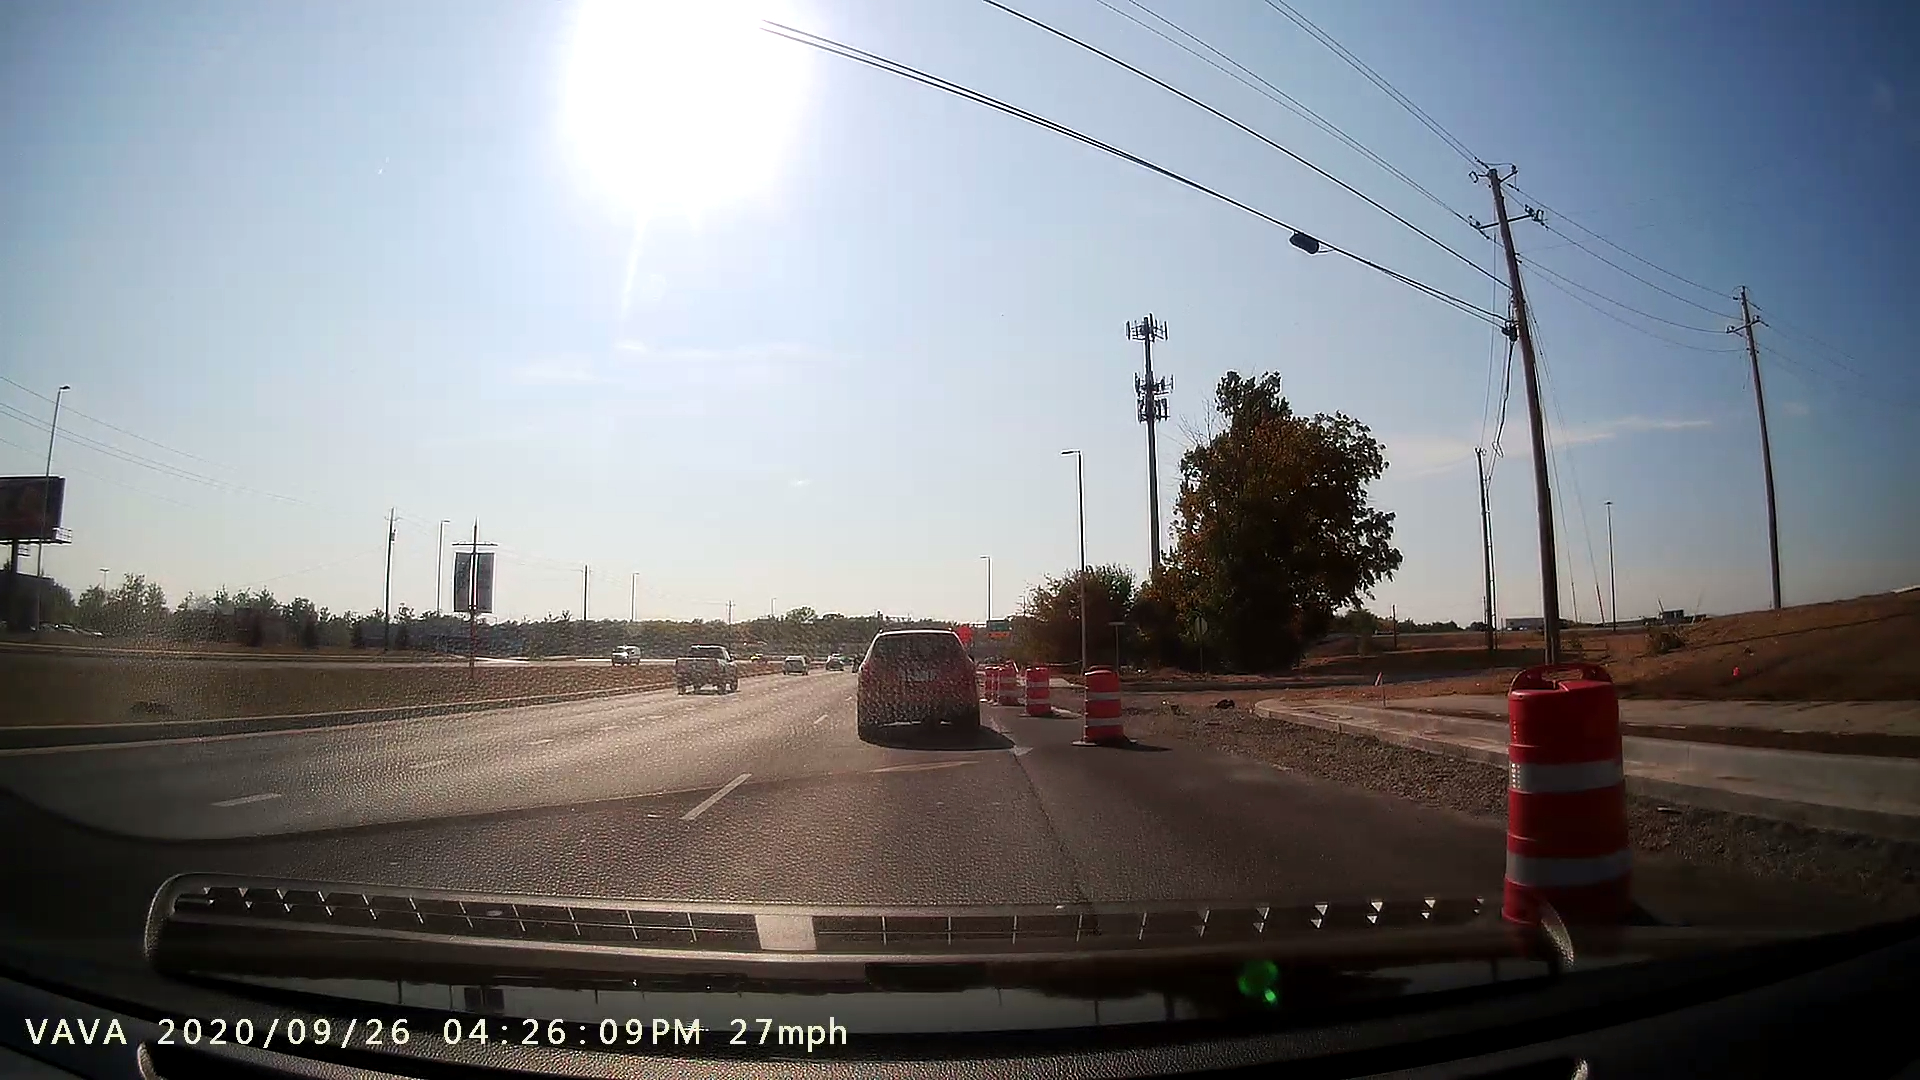const_barrel: (1073, 658, 1145, 760), (1010, 651, 1069, 727)
